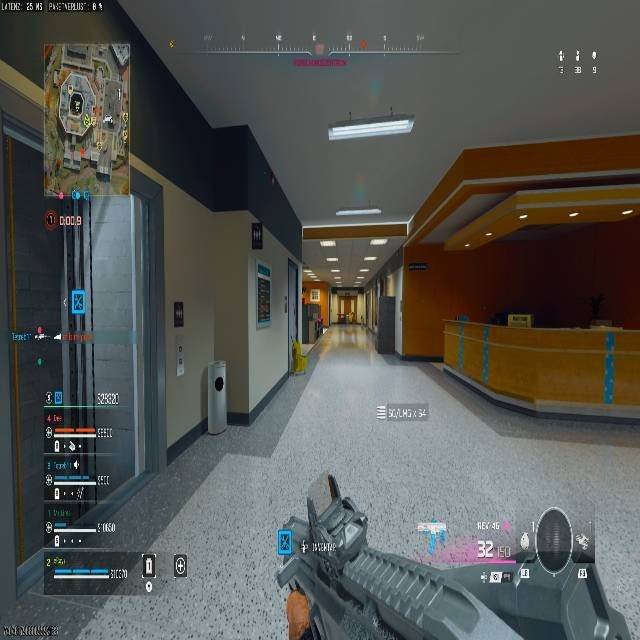player: (314, 315, 323, 337)
